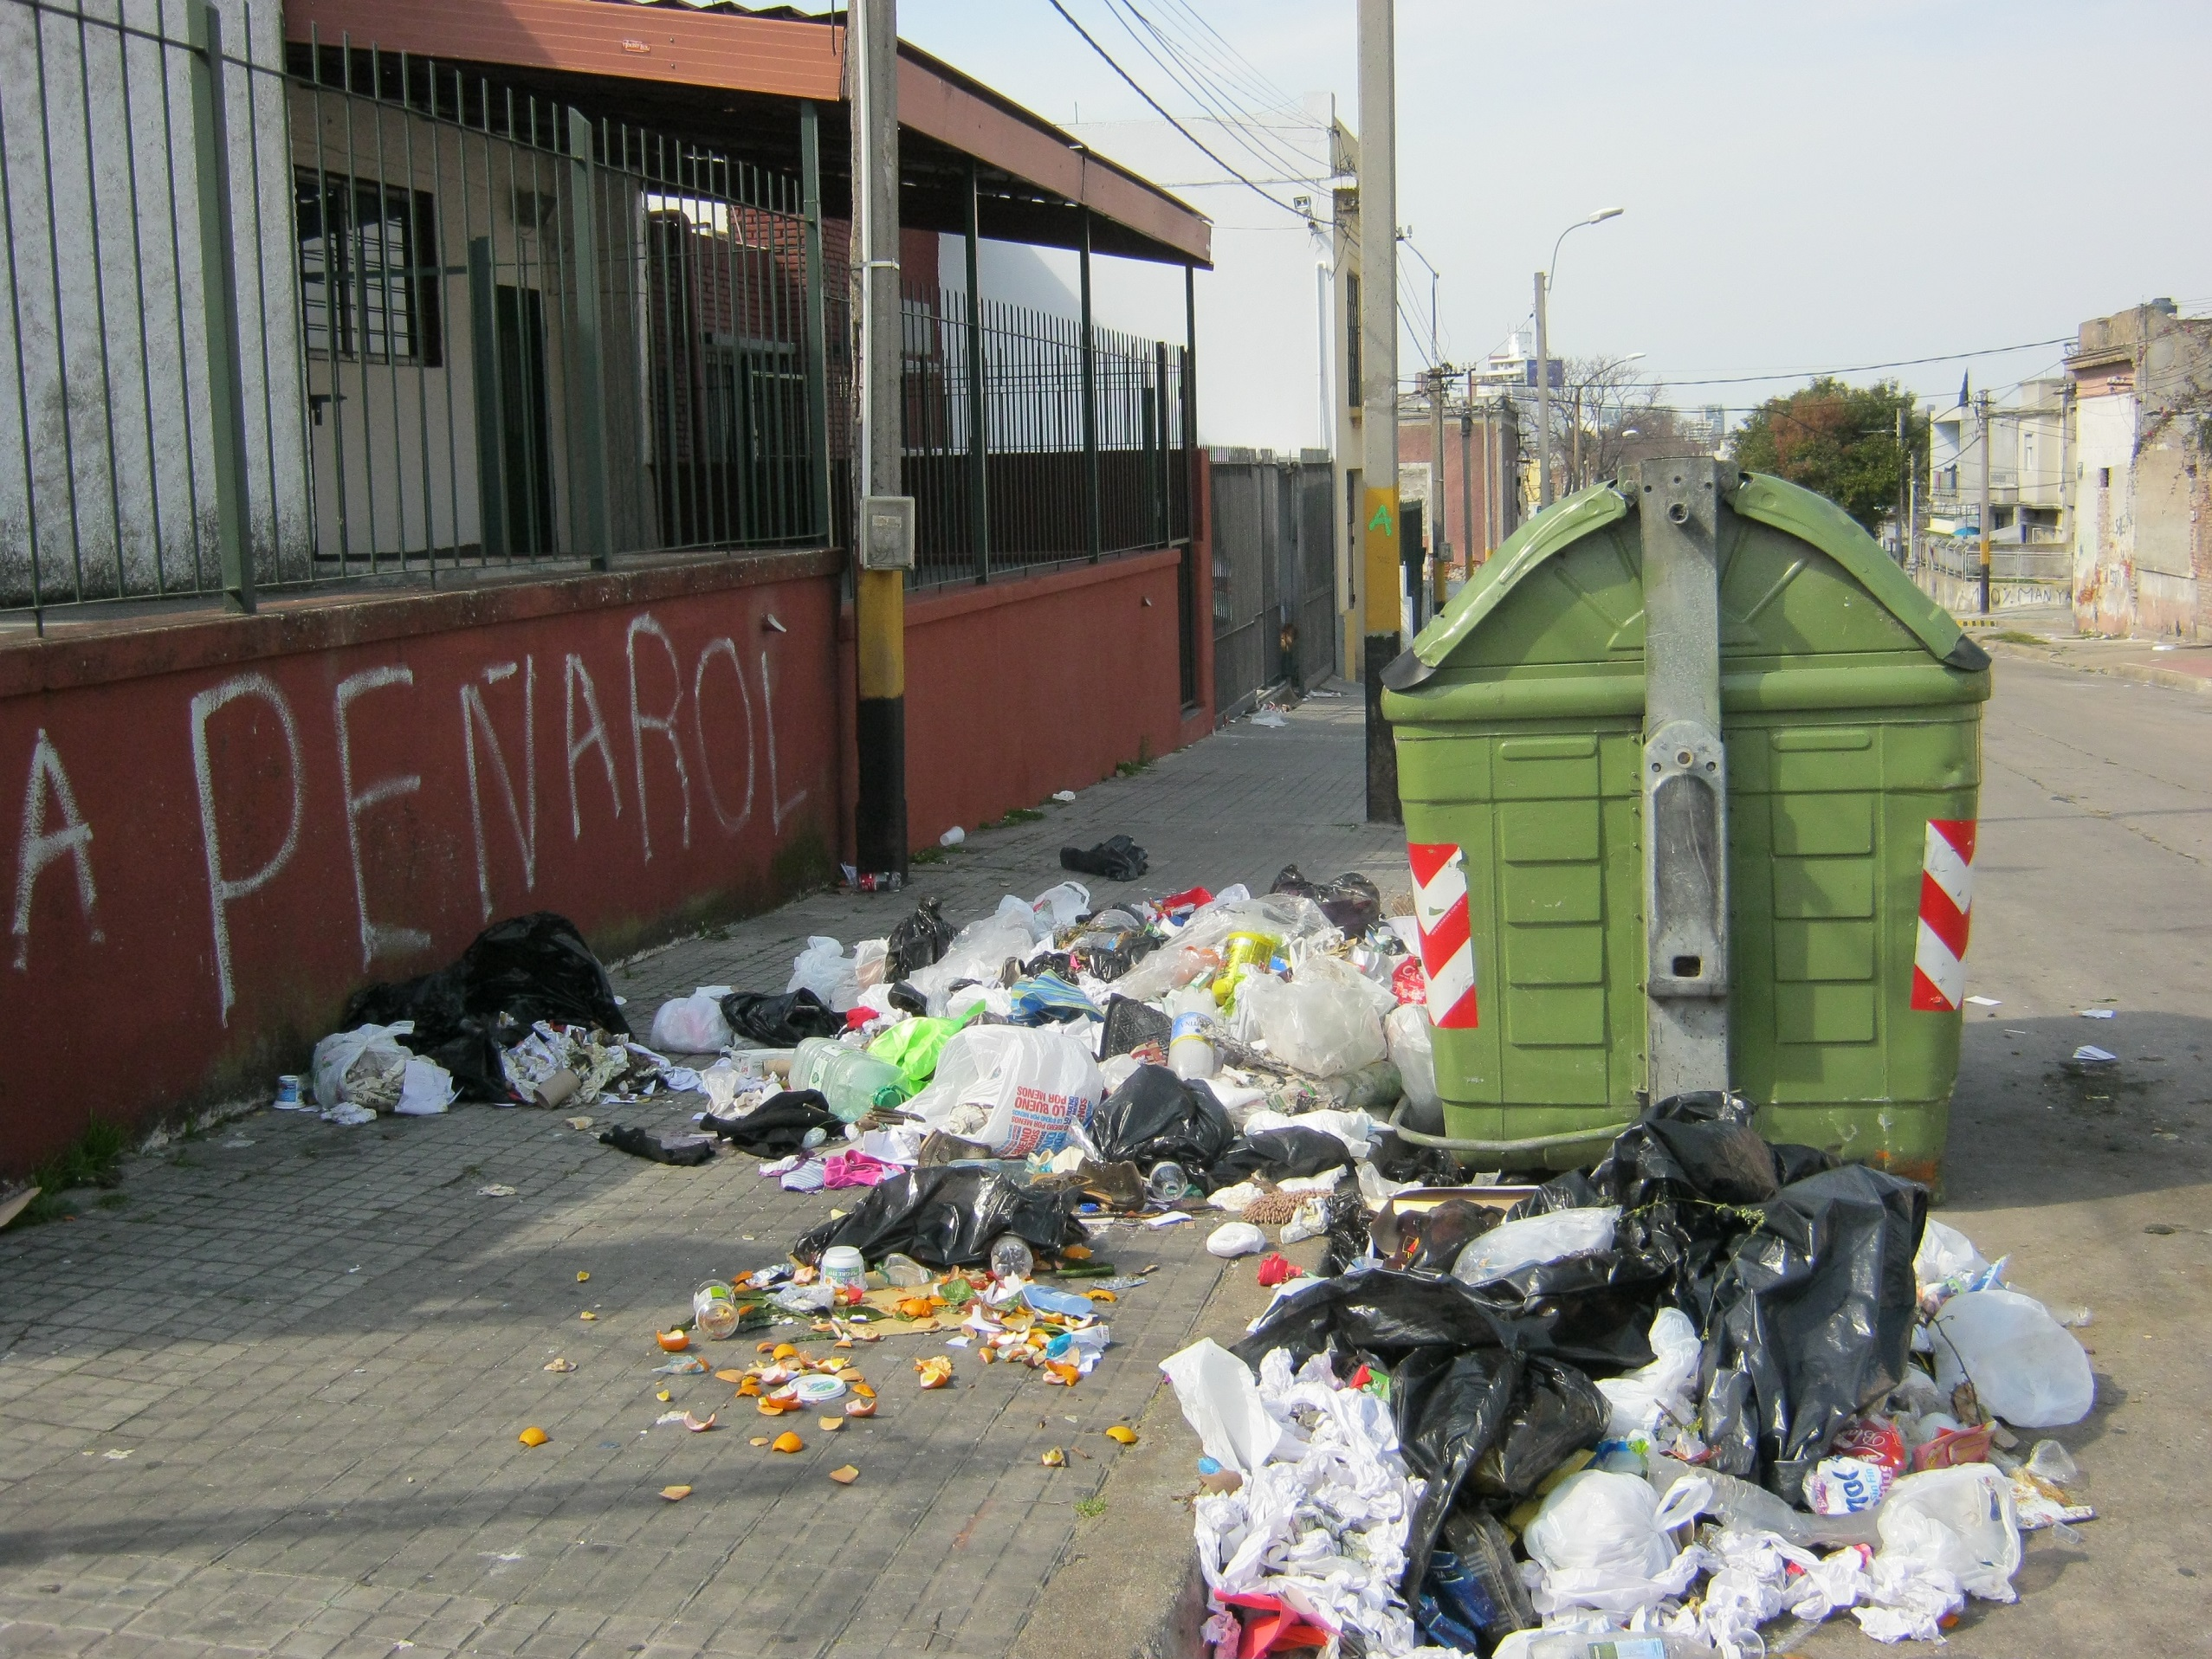container: (1361, 444, 2008, 1187)
